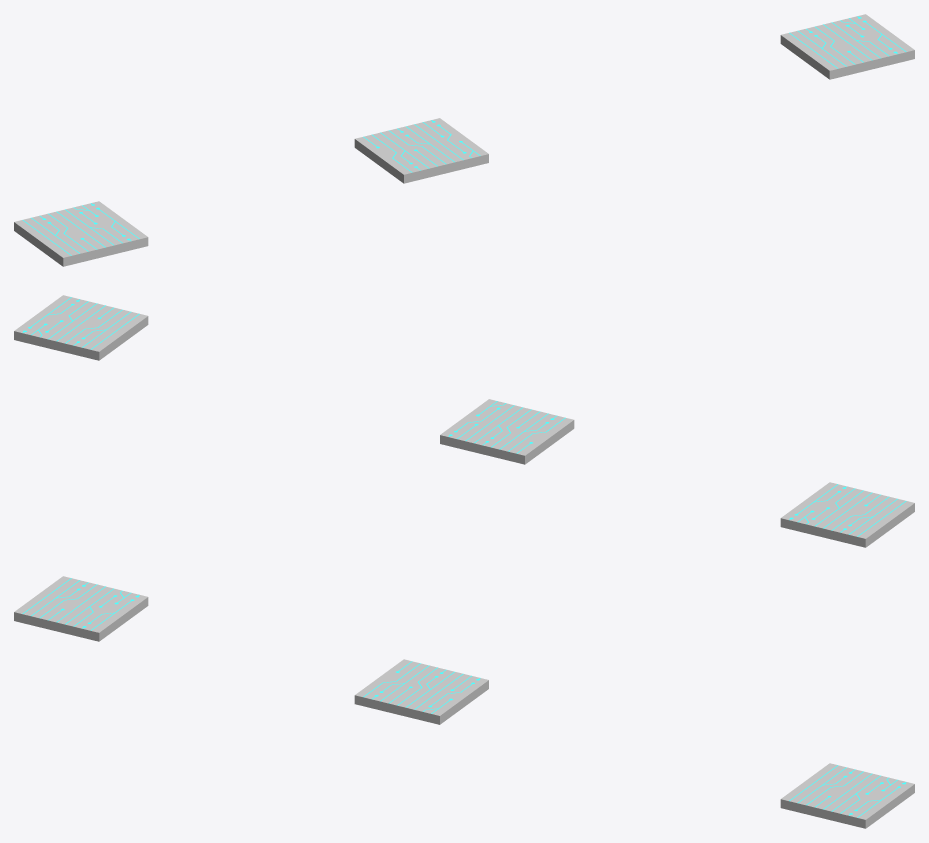
File: floor_plat5.glb
3 views of the same model, one above another, from view 1: azimuth 30°, elevation 25°; view 2: azimuth 150°, elevation 25°; view 3: azimuth 330°, elevation 25° (orthographic).
Visible parts, largest first — view 1: Cube.003, Plane.043; view 2: Cube.003, Plane.043; view 3: Cube.003, Plane.043.
Part boxes in pixels (<box>): Cube.003: <box>14,14,914,266</box>; Plane.043: <box>22,16,906,255</box>; Cube.003: <box>14,295,914,547</box>; Plane.043: <box>22,297,906,536</box>; Cube.003: <box>14,576,914,828</box>; Plane.043: <box>22,578,906,817</box>.
Bounding box in the file's own units: 200 × 2.01 × 20.
